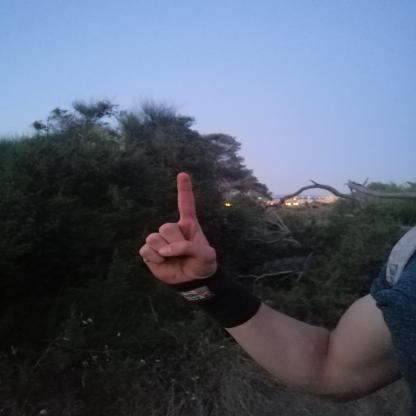BAA: (130, 166, 224, 298)
